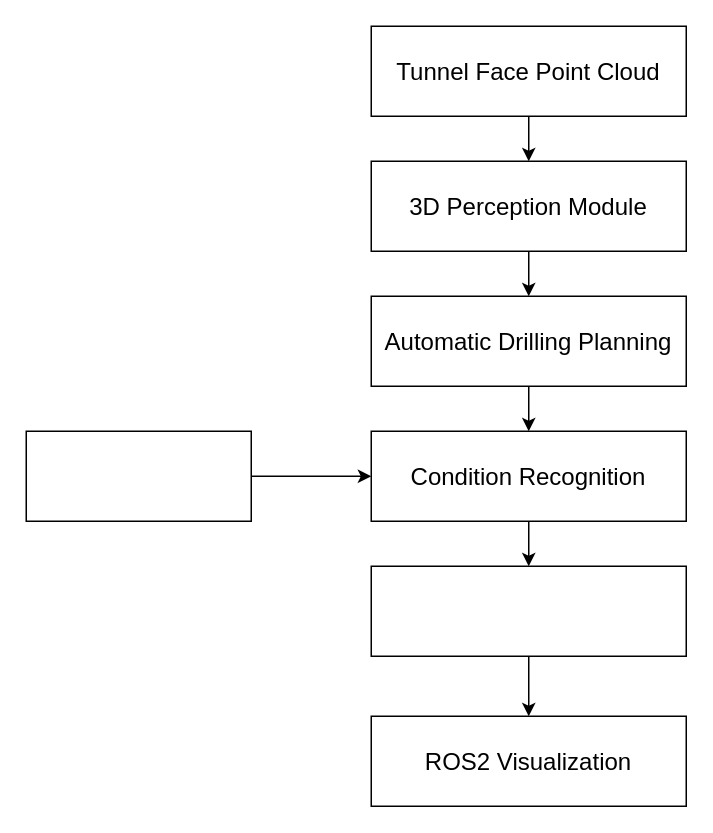
Image size: 713x833. Some labels were removed from this diagram. The box of each missing label's shape, as (x1, y1, x2, y2) in pixels:
MWD Data: (25, 430, 251, 521)
Robot Kinematic Verification: (370, 565, 686, 656)
